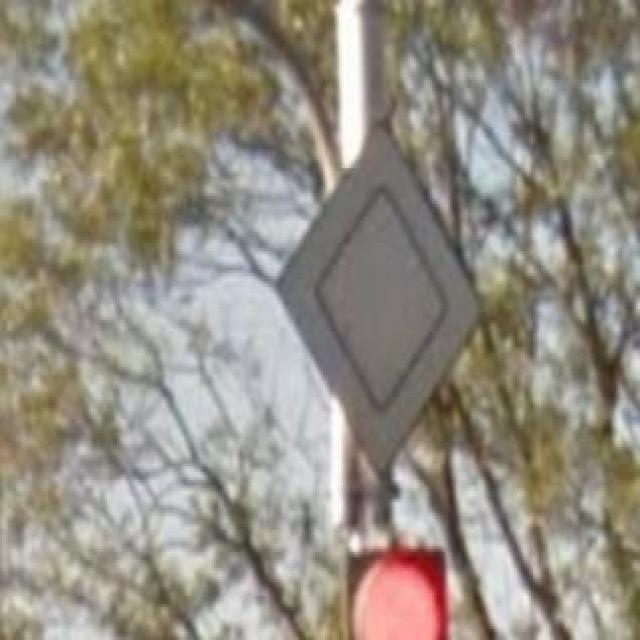Droga z pierwszenstwem: (276, 121, 482, 480)
